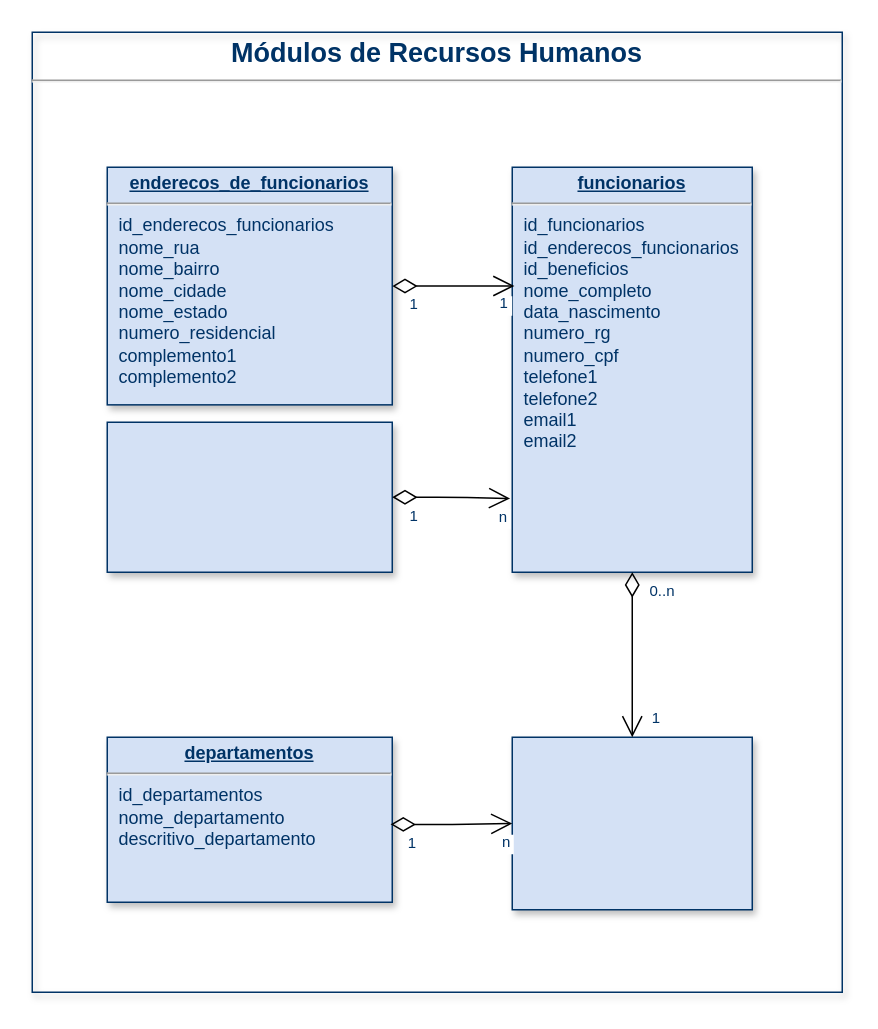
This 878x1029 diagram has some shape labels left out. Here are the shapes that lost their labels. From the top down, the centre of each, then its label:
pixel 250 499: beneficios id_beneficios nome_beneficio valor_beneficio descritivo_beneficio
pixel 633 825: funcoes id_funcoes id_funcionarios id_departamentos nome_funcao descritivo
